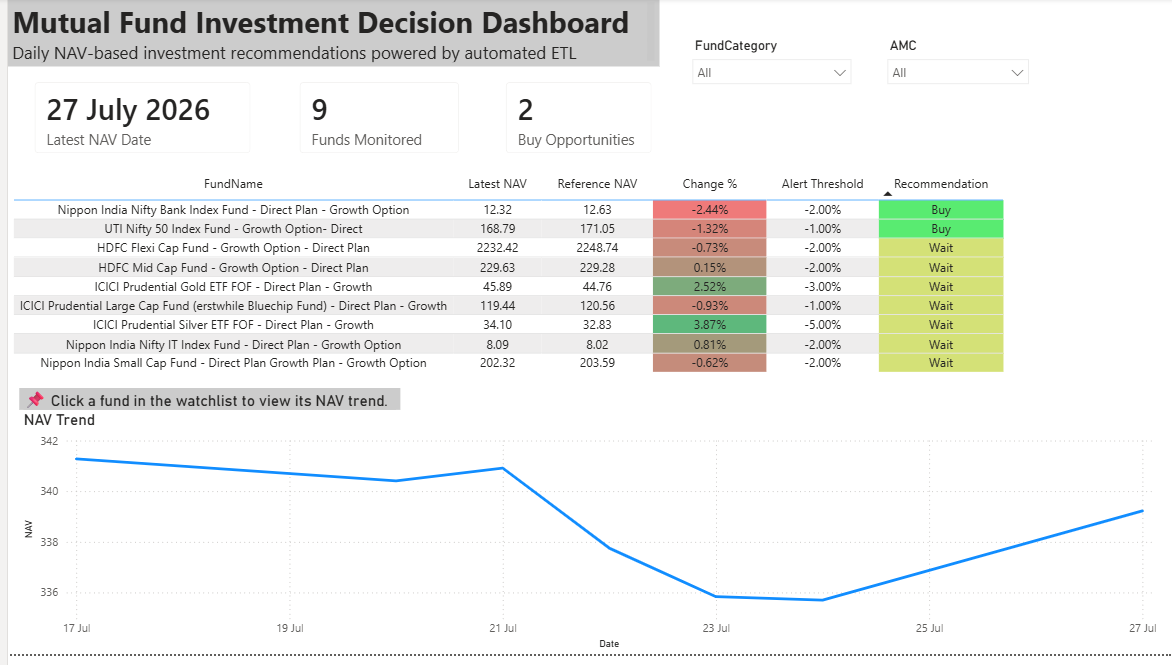

The dashboard page shown, as its layout file describes it:
{"tool":"powerbi","page":{"name":"Page 1","canvas":[1280,720],"ordinal":0},"visuals":[{"type":"cardVisual","fields":{"Data":["Measure.Latest NAV Date"]},"box":[12.3,75.5,271.7,112.5],"z":0},{"type":"cardVisual","fields":{"Data":["Measure.Active Funds"]},"box":[303.3,75.5,209.9,112.5],"z":1000},{"type":"tableEx","fields":{"Values":["Mutual Funds.FundName","Measure.Latest NAV","Measure.Month Start NAV","Measure.NAV Change %","Sum(Mutual Funds.AlertThreshold)","Measure.Recommendation"]},"box":[0,188,1254.2,240.1],"z":2000},{"type":"cardVisual","fields":{"Data":["Measure.Buy Opportunities"]},"box":[529.7,75.5,194.9,112.5],"z":3000},{"type":"slicer","fields":{"Values":["Mutual Funds.AMC"]},"box":[955.1,38.4,175.6,138.6],"z":4000},{"type":"slicer","fields":{"Values":["Mutual Funds.FundCategory"]},"box":[741,38.4,194.9,138.6],"z":5000},{"type":"textbox","box":[0,0,714.9,75.5],"z":6000},{"type":"lineChart","fields":{"Category":["DimDate.Date"],"Y":["Avg(NAV History.NAV)"]},"box":[12.3,452.8,1254.2,267.6],"z":7000},{"type":"textbox","title":"📌 Click a fund in the watchlist to view its NAV trend.","box":[12.3,428.1,418.5,24.7],"z":8000}]}

Visuals, with their boxes in screenshot pixels (x1, y1, x2, y2), scaled from the page's 1280x720 canvas onto the 1172x665 screenshot:
cardVisual - Measure.Latest NAV Date: region(11, 70, 260, 174)
cardVisual - Measure.Active Funds: region(278, 70, 470, 174)
tableEx - Mutual Funds.FundName x Measure.Latest NAV: region(0, 174, 1148, 395)
cardVisual - Measure.Buy Opportunities: region(485, 70, 663, 174)
slicer - Mutual Funds.AMC: region(875, 35, 1035, 163)
slicer - Mutual Funds.FundCategory: region(678, 35, 857, 163)
textbox: region(0, 0, 655, 70)
lineChart - DimDate.Date x Avg(NAV History.NAV): region(11, 418, 1160, 664)
"📌 Click a fund in the watchlist to view its NAV trend." textbox: region(11, 395, 394, 418)
